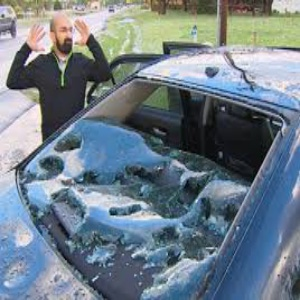rear_windshield_glass: (48, 111, 251, 296)
